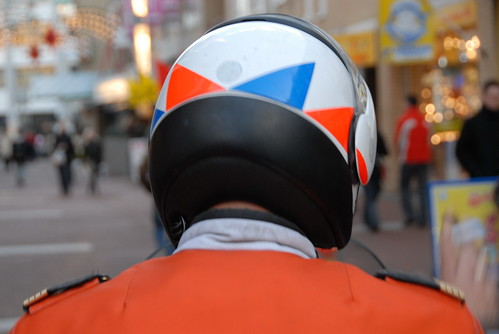helmet: (133, 6, 379, 250)
